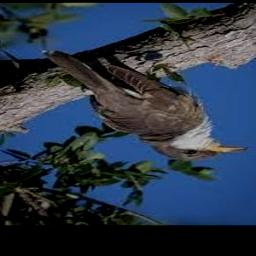Cuckoo: (40, 51, 246, 160)
